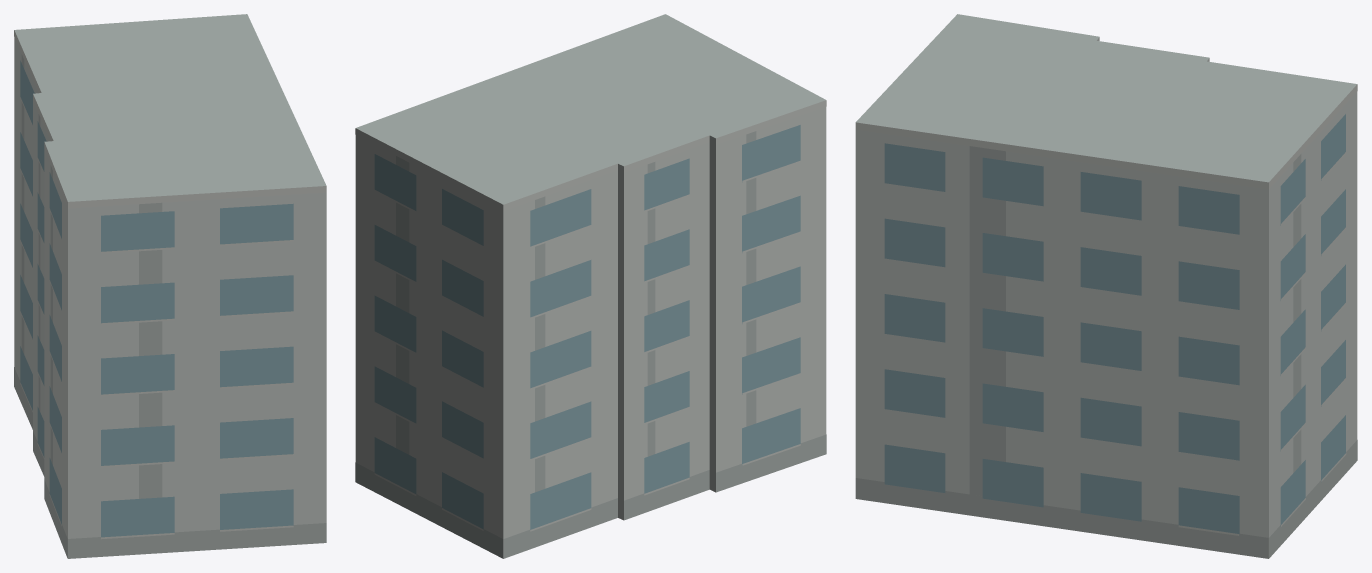
File: survey-upis-32894268.glb
The picture shows the model from 3 angles, left to right: view 1: azimuth 30°, elevation 25°; view 2: azimuth 150°, elevation 25°; view 3: azimuth 270°, elevation 25°; orthographic projection. The views are drawn at different scales.
Parts seen in each view (by area): view 1: survey-upis-32894268.tmp; view 2: survey-upis-32894268.tmp; view 3: survey-upis-32894268.tmp.
Part boxes in pixels (left/top/right/bottom): survey-upis-32894268.tmp: left=14, top=14, right=326, bottom=558; survey-upis-32894268.tmp: left=355, top=14, right=826, bottom=558; survey-upis-32894268.tmp: left=855, top=14, right=1357, bottom=558.
Bounding box in the file's own units: 12.48 × 13 × 15.72.
